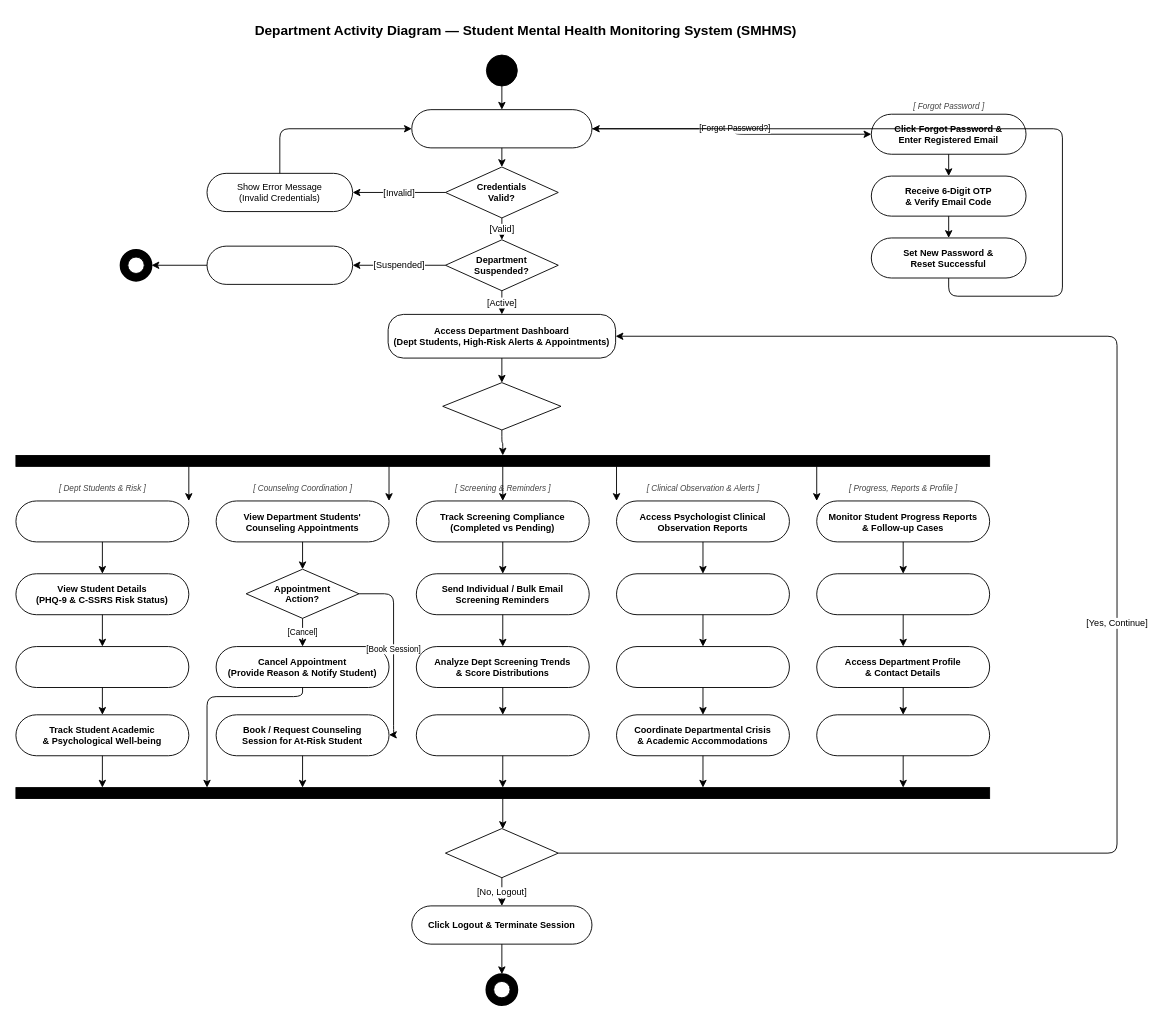
This 1163x1021 diagram has some shape labels left out. The shapes that lost their labels are listed below. From the top down, each one's box as (x1, y1, x2, y2) in pixels, then its label:
(411, 109, 592, 148): Login to Department Portal (Email & Password)
(206, 245, 353, 284): Show Account Suspension Notice
(442, 382, 561, 430): Select Department Module
(15, 500, 189, 542): Browse Department Students (Filter by Semester & Search)
(616, 573, 789, 615): Review Diagnosis Notes & Clinical Recommendations
(816, 573, 990, 615): Generate End-of-Week & Semester-End Reports
(15, 646, 189, 688): Identify Vulnerable Students & High-Risk Flags
(616, 646, 789, 688): Transmit High-Risk Incident Report to Administration
(415, 714, 589, 756): Boost Departmental Mental Health Participation
(816, 714, 990, 756): Update Account Password & Save Changes
(445, 828, 558, 878): Continue Working?
